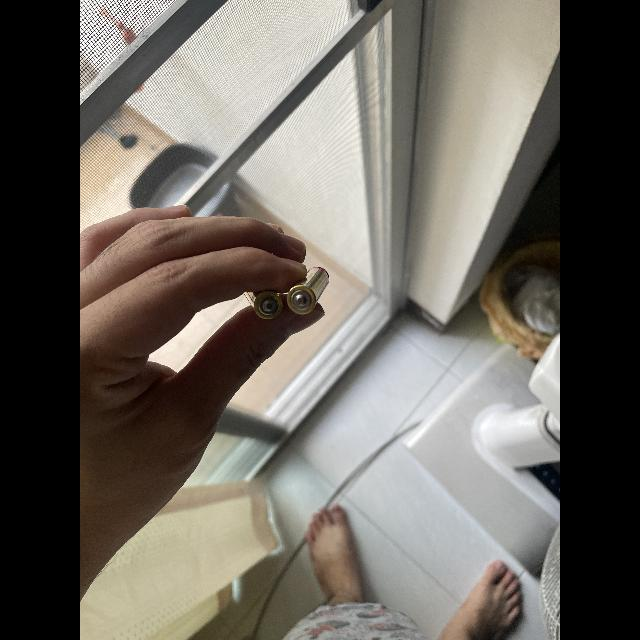battery: (286, 267, 330, 316), (244, 289, 283, 320)
